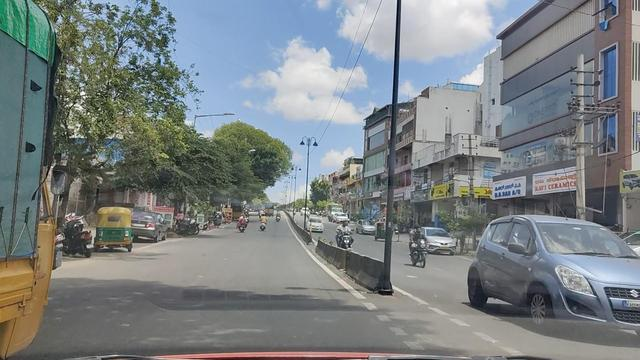LMV: (97, 207, 134, 242), (407, 227, 430, 265), (337, 220, 357, 246), (236, 207, 251, 236)
